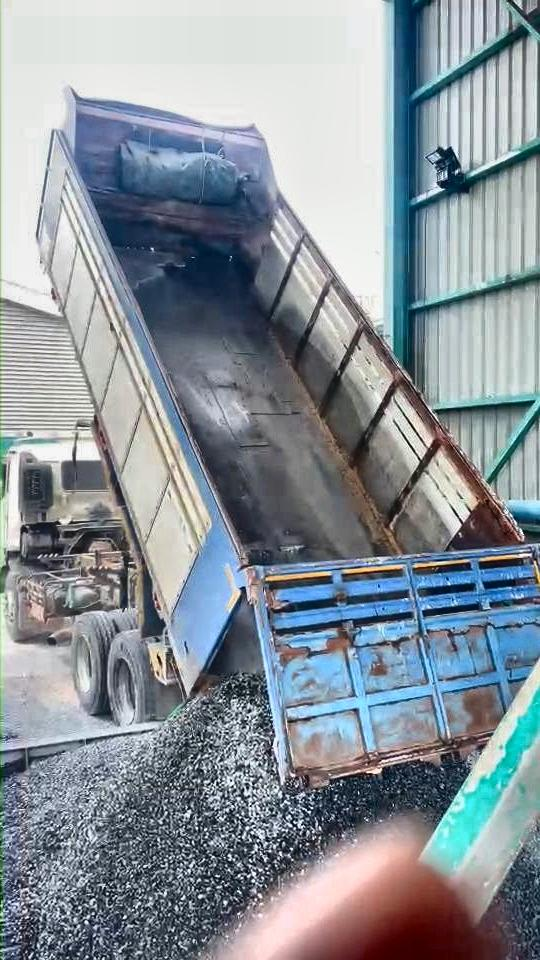gravel: (3, 677, 465, 959), (498, 848, 540, 959)
